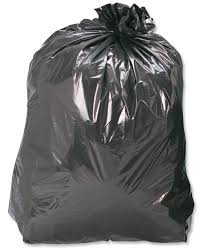Trash: (13, 6, 200, 250)
